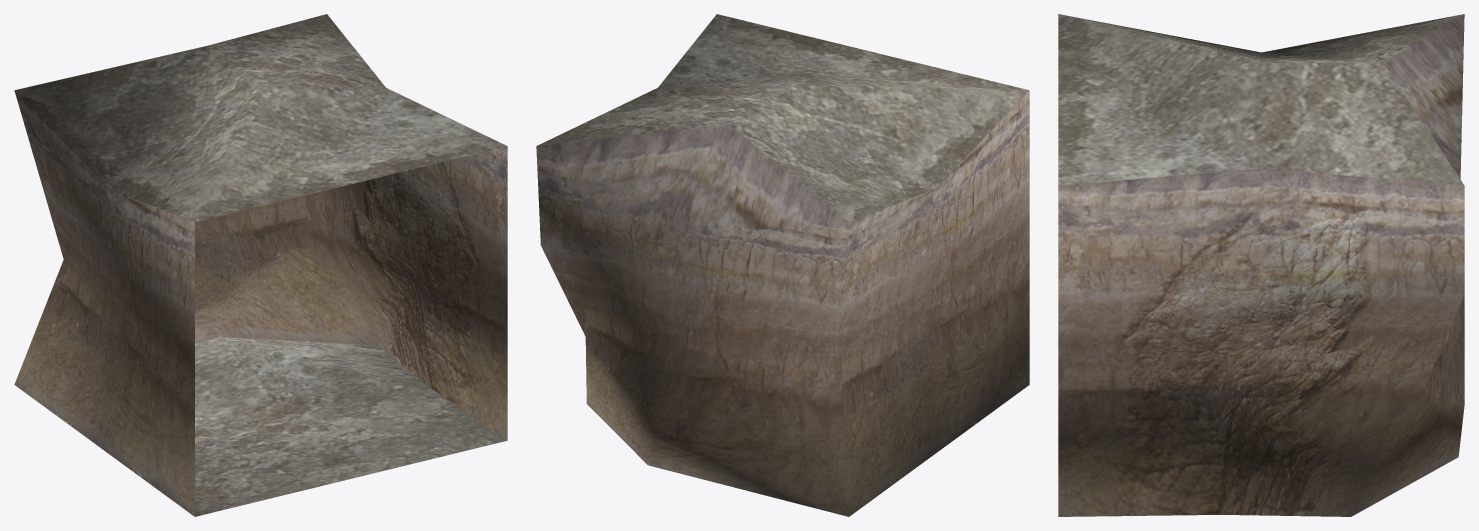
The model's file is endcap.obj.
3 renders of one model, left to right at view 1: azimuth 30°, elevation 25°; view 2: azimuth 150°, elevation 25°; view 3: azimuth 270°, elevation 25°, orthographic. The views are drawn at different scales.
Visible parts, largest first — view 1: stile004; view 2: stile004; view 3: stile004.
Boxes of the visible parts, x1=… form: stile004: x1=14, y1=14, x2=507, y2=516; stile004: x1=536, y1=14, x2=1029, y2=516; stile004: x1=1058, y1=14, x2=1464, y2=516.
Bounding box in the file's own units: 1 × 1 × 1.
1 material, 1 textured.
